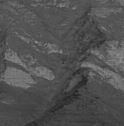Target: (56, 54, 69, 64)
